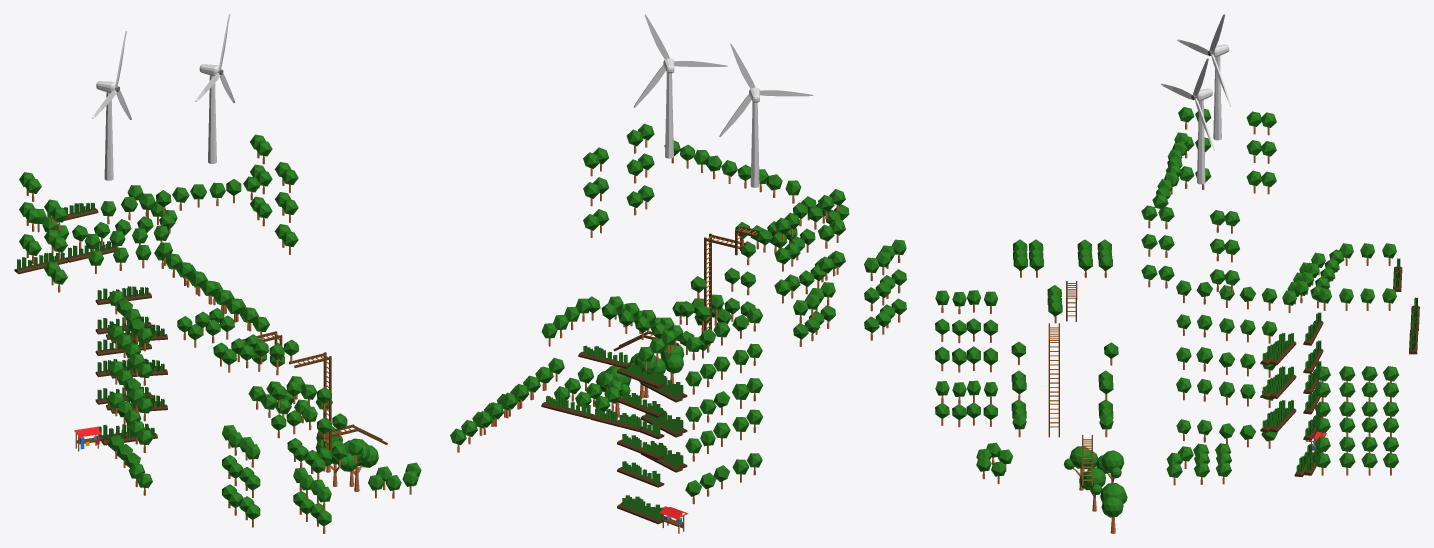
Rendered from solution_29_tree_cover.fbx.
3 renders of one model, left to right at view 1: azimuth 30°, elevation 25°; view 2: azimuth 150°, elevation 25°; view 3: azimuth 270°, elevation 25°, orthographic. The views are drawn at different scales.
Parts seen in each view (by area): view 1: solution_29_tree_cover; view 2: solution_29_tree_cover; view 3: solution_29_tree_cover.
Boxes of the visible parts, <box> form: solution_29_tree_cover: <box>14,14,421,533</box>; solution_29_tree_cover: <box>450,14,906,533</box>; solution_29_tree_cover: <box>935,14,1419,533</box>.
Bounding box in the file's own units: 4178 × 6389 × 6402.
